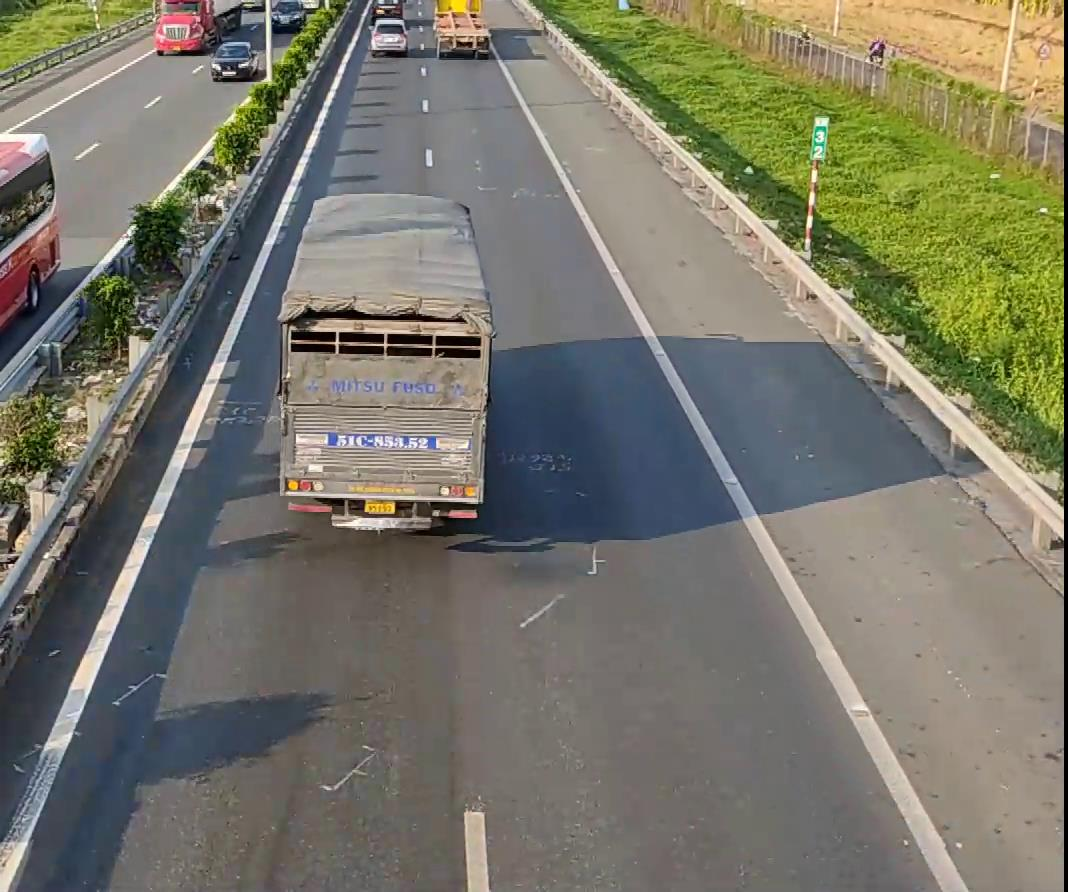bus: (0, 129, 62, 384)
truck: (277, 194, 499, 543)
